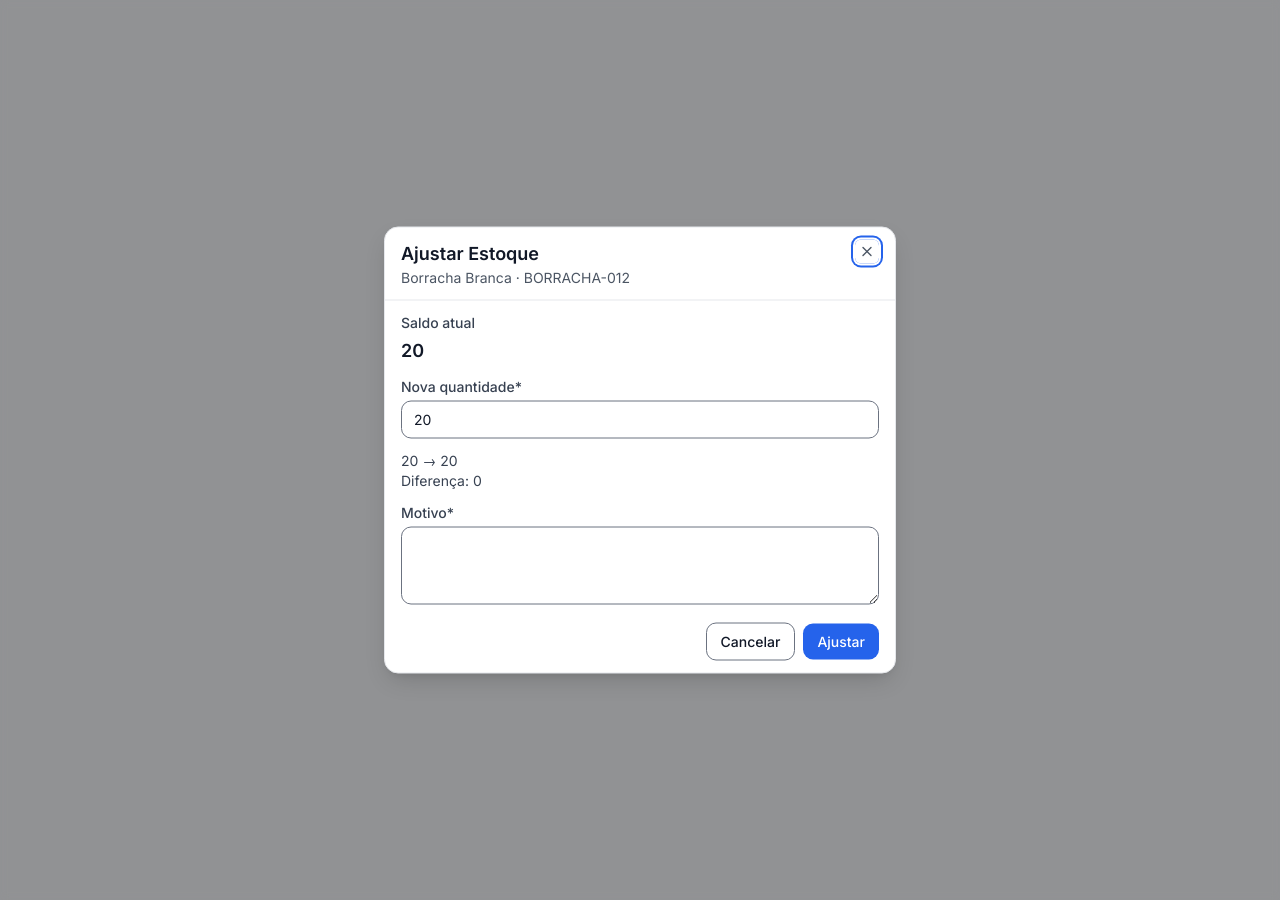
Test: AdjustmentFormModal — formulário e confirmação (Task 4) › preenche saldo alvo e motivo válidos e avança para a confirmação com os dados corretos
The image size is (1280, 900).
Clear the number field labelled "Nova quantidade*": x=640, y=420 401,400 -> 879,438
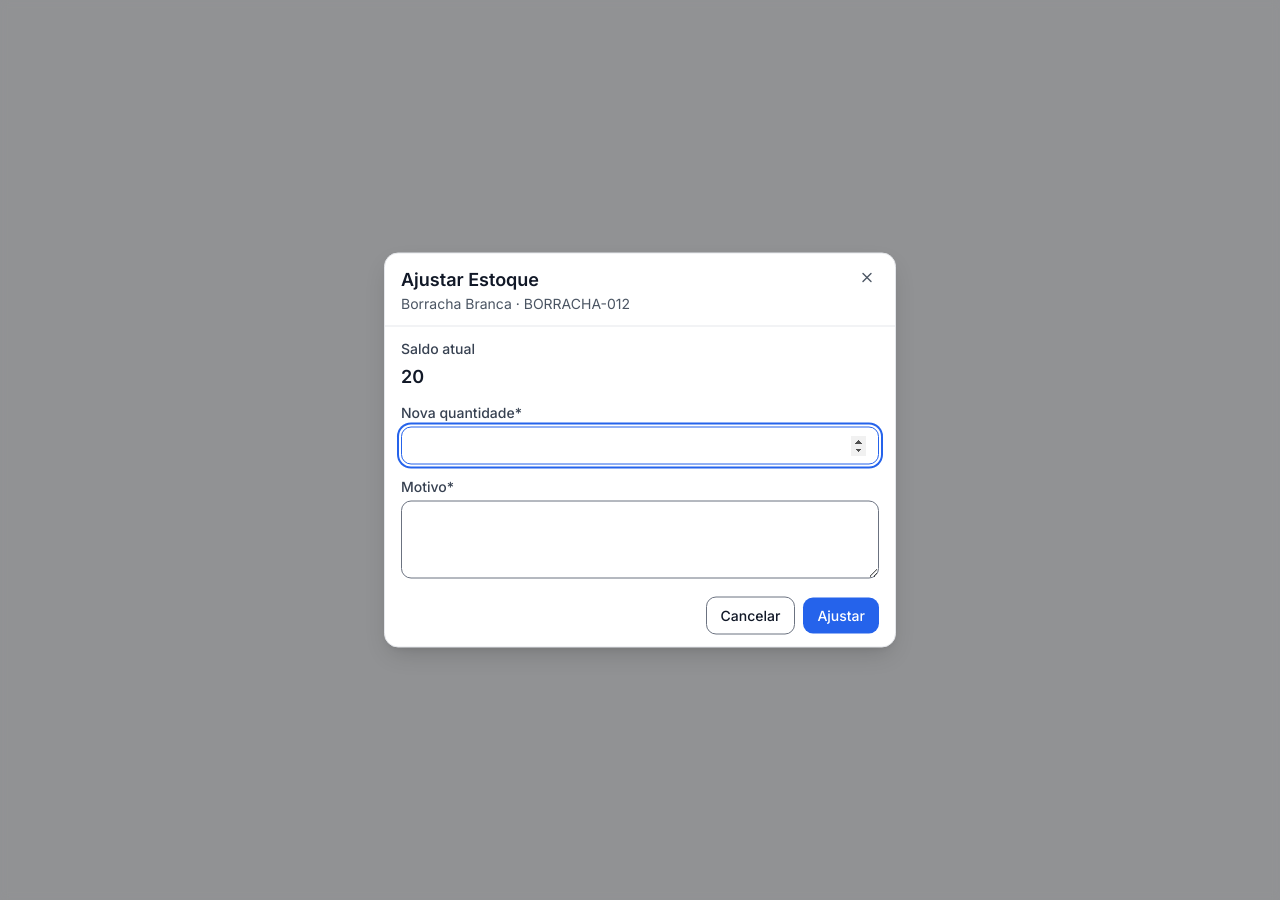
In the number field labelled "Nova quantidade*": x=640, y=446 401,426 -> 879,464, type "18"
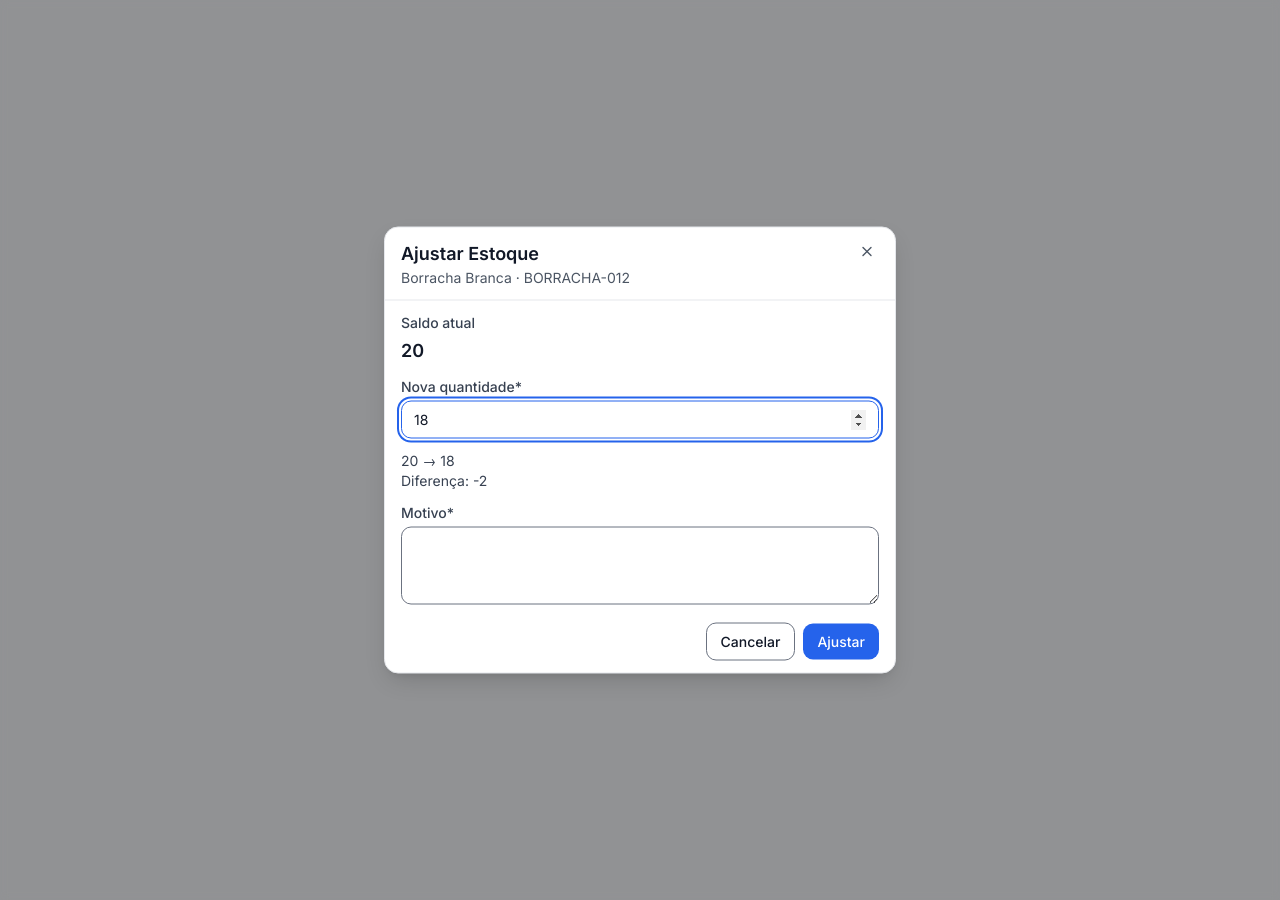
In the text box labelled "Motivo*": x=640, y=566 401,526 -> 879,604, type "Contagem física mensal"
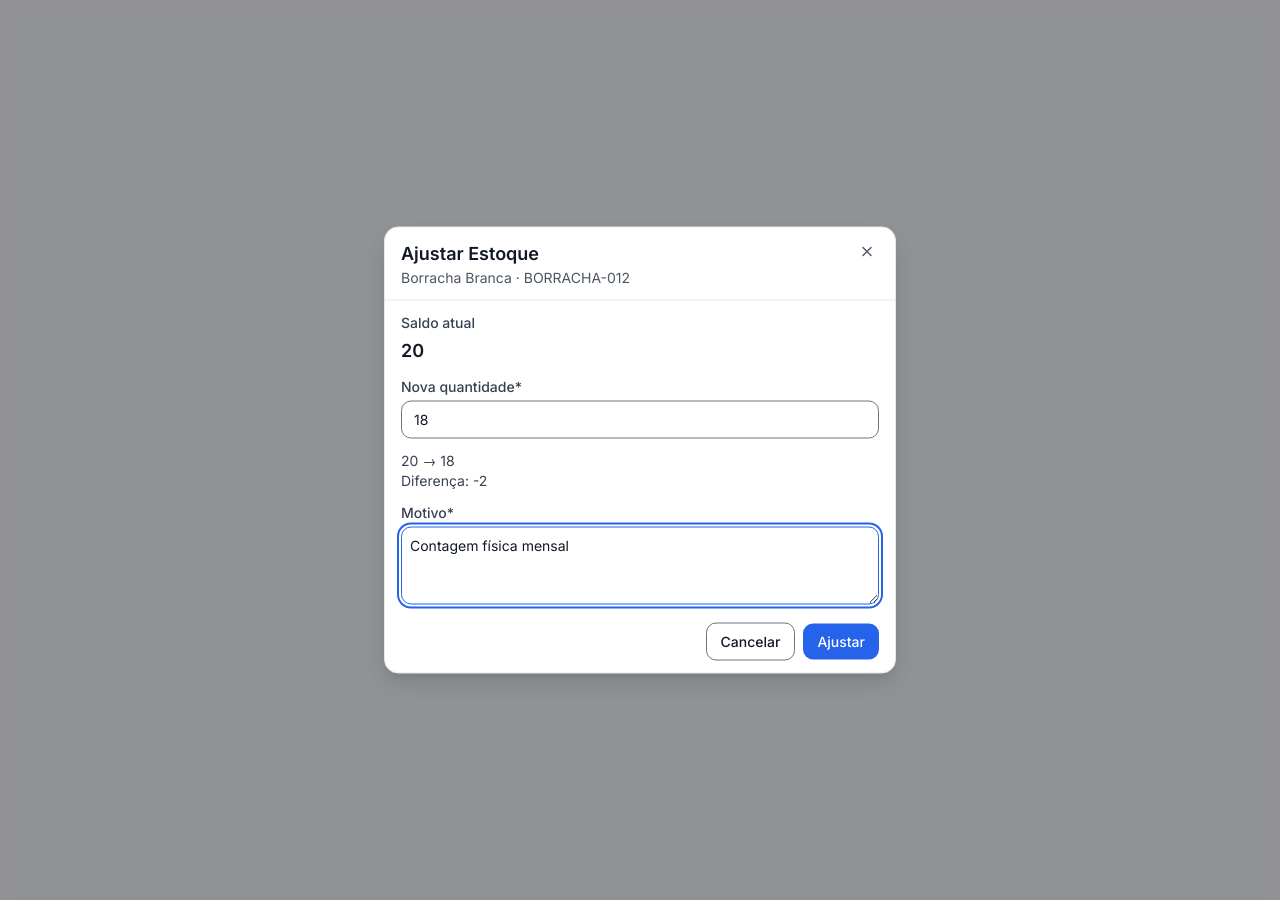
Click the button "Ajustar": x=841, y=642 803,624 -> 879,660
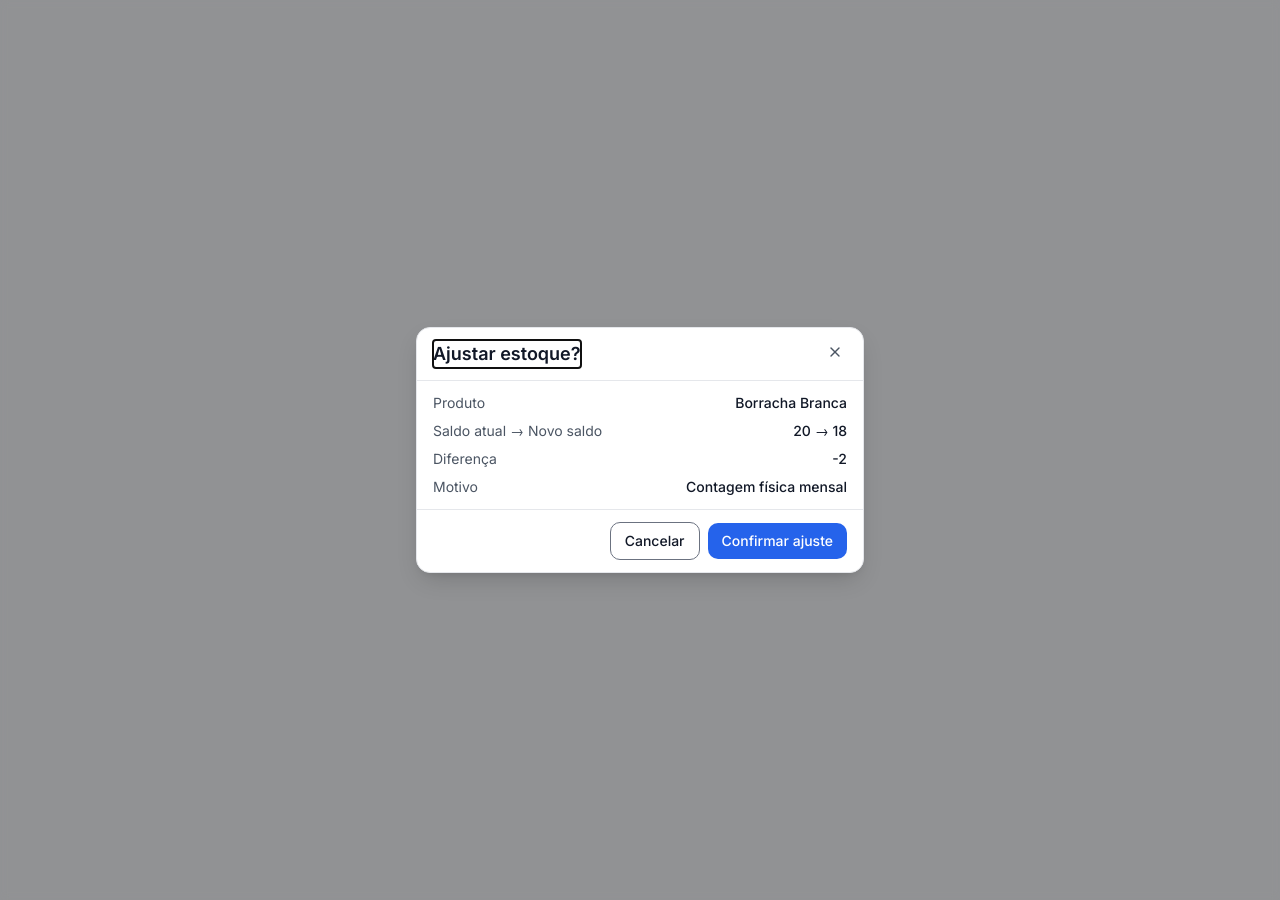
Check: the heading "Ajustar estoque?" is shown, box 433,340 -> 580,368
Check: the text "20 → 18" is shown, box 793,422 -> 847,439
Check: the text "Contagem física mensal" is shown, box 686,477 -> 847,497
